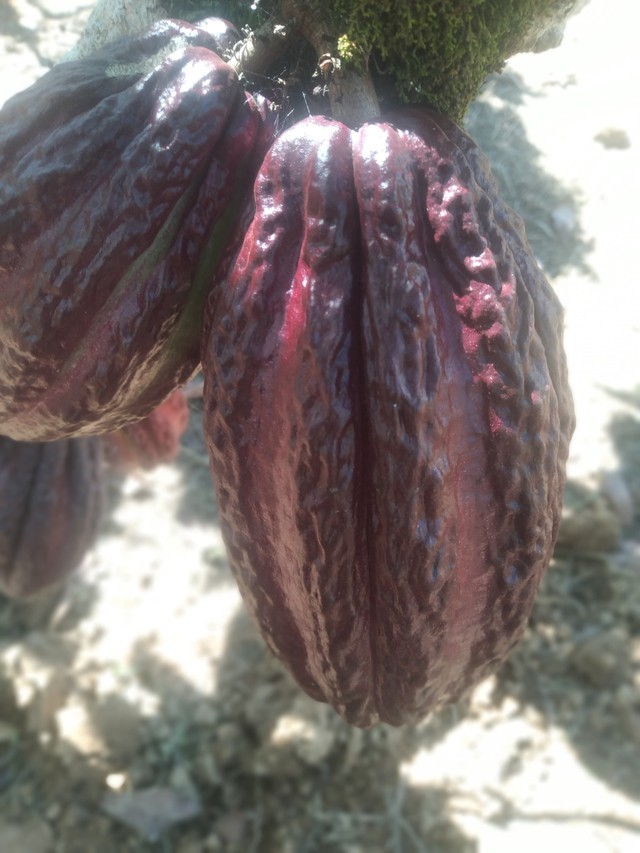Health: (175, 75, 584, 734)
